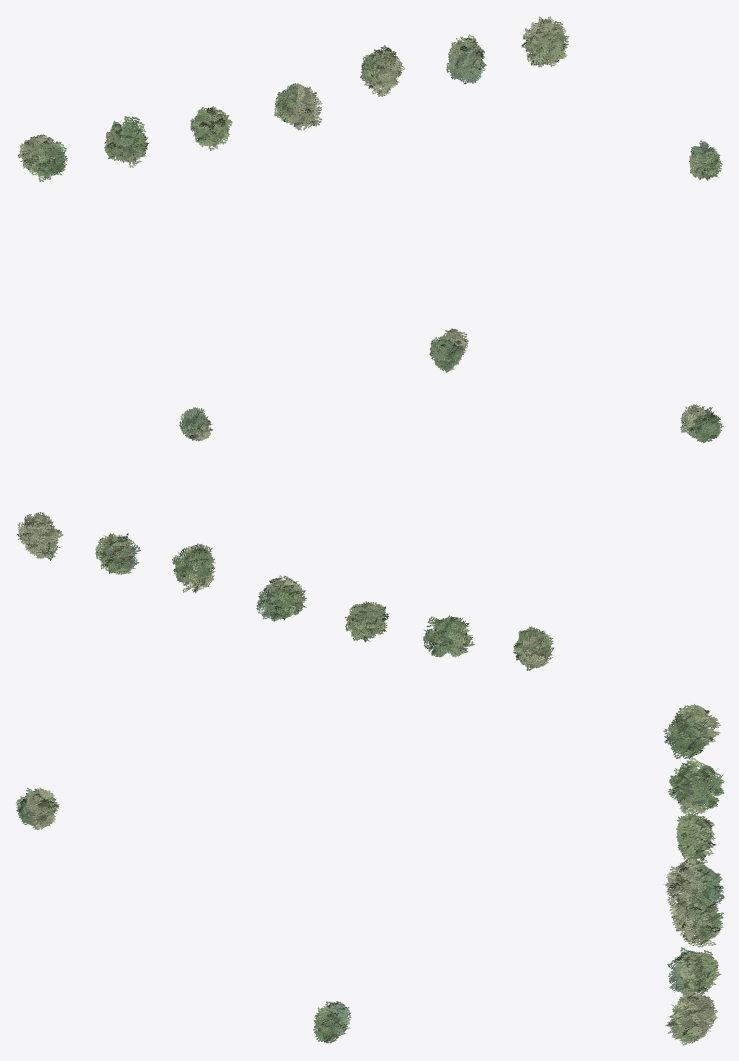
File: campus-tree--5_-4-near.glb
3 renders of one model, top to bottom at view 1: azimuth 30°, elevation 25°; view 2: azimuth 150°, elevation 25°; view 3: azimuth 270°, elevation 25°, orthographic. The views are drawn at different scales.
Visible parts, largest first — view 1: Campus leaf canopy; view 2: Campus leaf canopy; view 3: Campus leaf canopy.
Part boxes in pixels (box(x1,y1,x2,y2)): Campus leaf canopy: box(17, 16, 722, 372); Campus leaf canopy: box(17, 404, 723, 670); Campus leaf canopy: box(16, 704, 724, 1045).
Size of the model in its own units: 72.56 by 7.61 by 72.26.
Materials: 1 (1 with a texture image).
